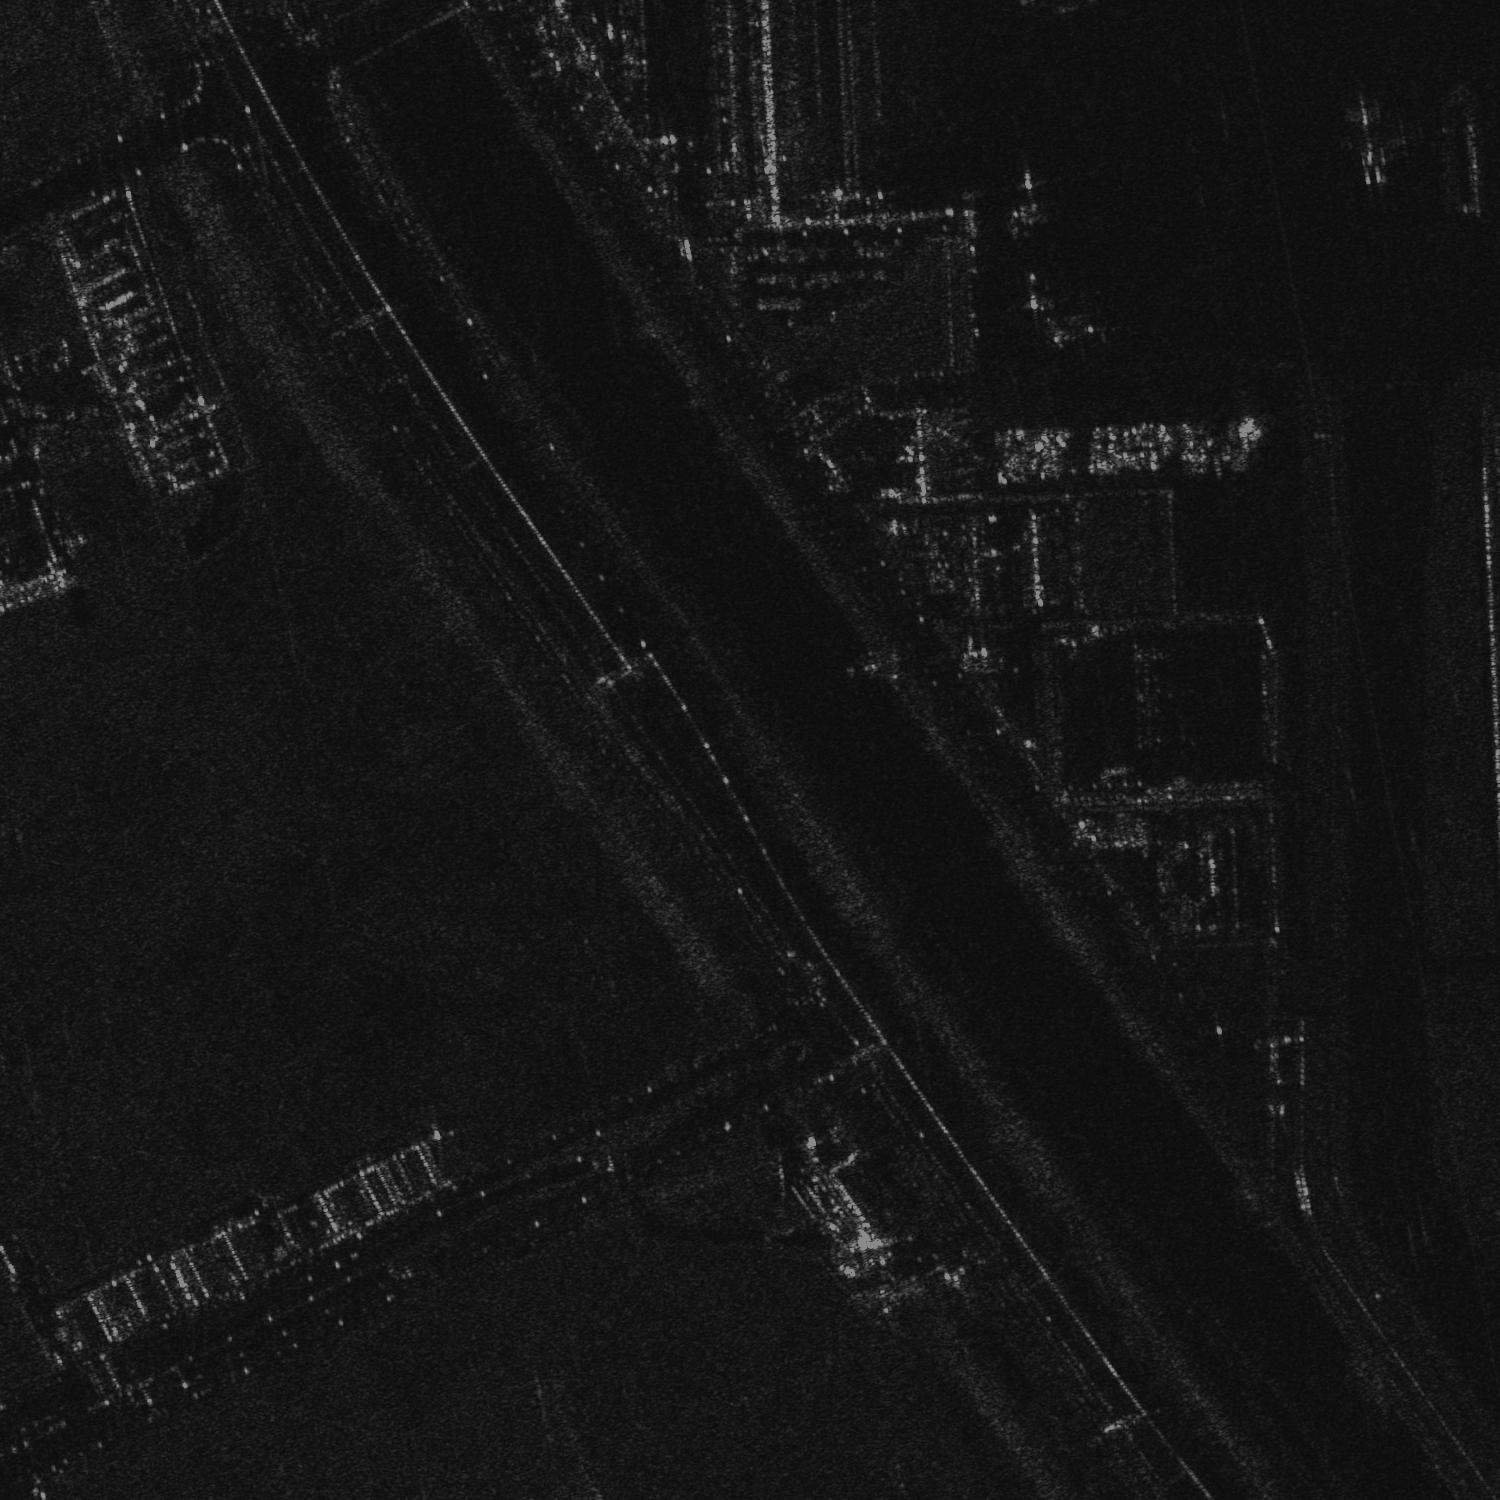A220: (1000, 168, 1052, 225), (1011, 269, 1056, 323)
other: (1310, 102, 1424, 185), (1033, 319, 1099, 353)
